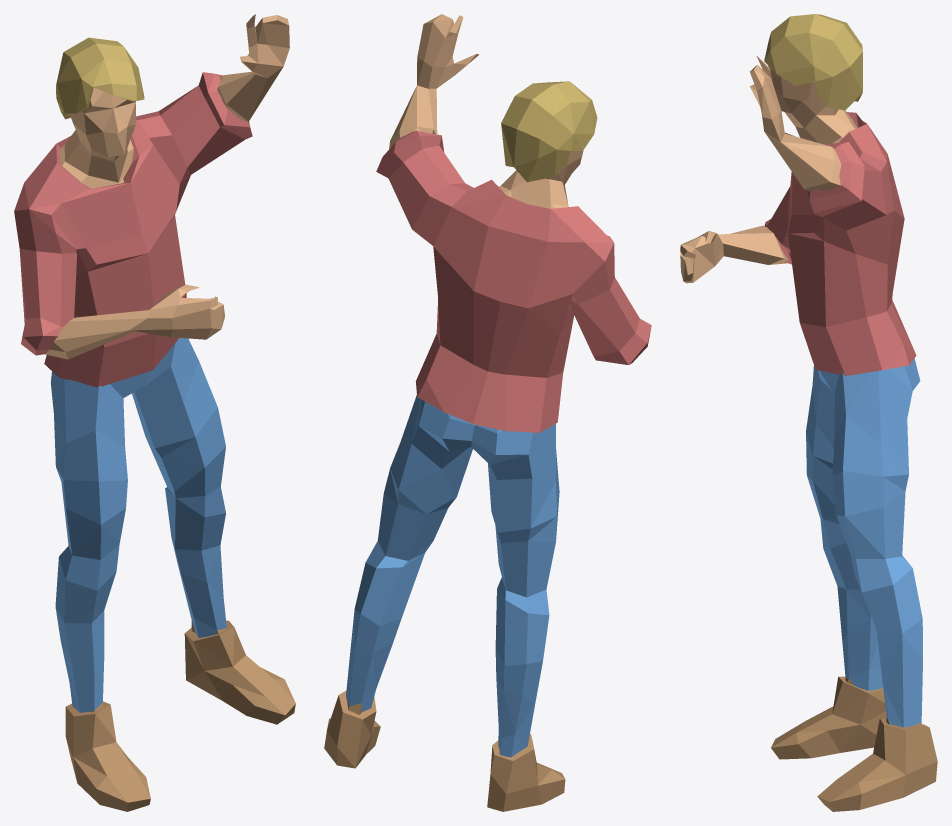
The model's file is avatar_tmp.glb.
3 renders of one model, left to right at view 1: azimuth 30°, elevation 25°; view 2: azimuth 150°, elevation 25°; view 3: azimuth 270°, elevation 25°, orthographic. The views are drawn at different scales.
Parts seen in each view (by area): view 1: male; view 2: male; view 3: male.
Part boxes in pixels (left/top/right/bottom): male: left=14, top=14, right=295, bottom=811; male: left=324, top=14, right=651, bottom=811; male: left=680, top=14, right=937, bottom=811.
Bounding box in the file's own units: 1.48 × 3.66 × 1.14.
